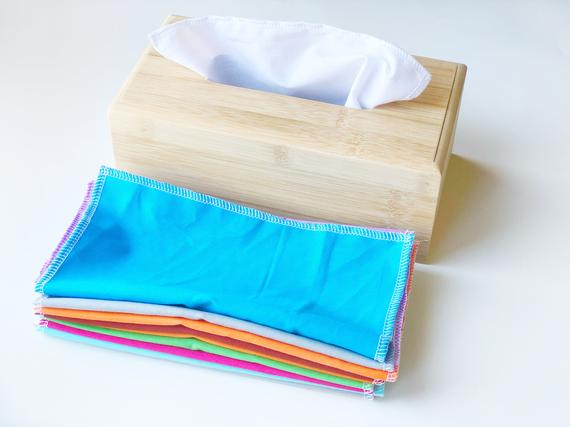Tissue: (140, 9, 436, 112)
